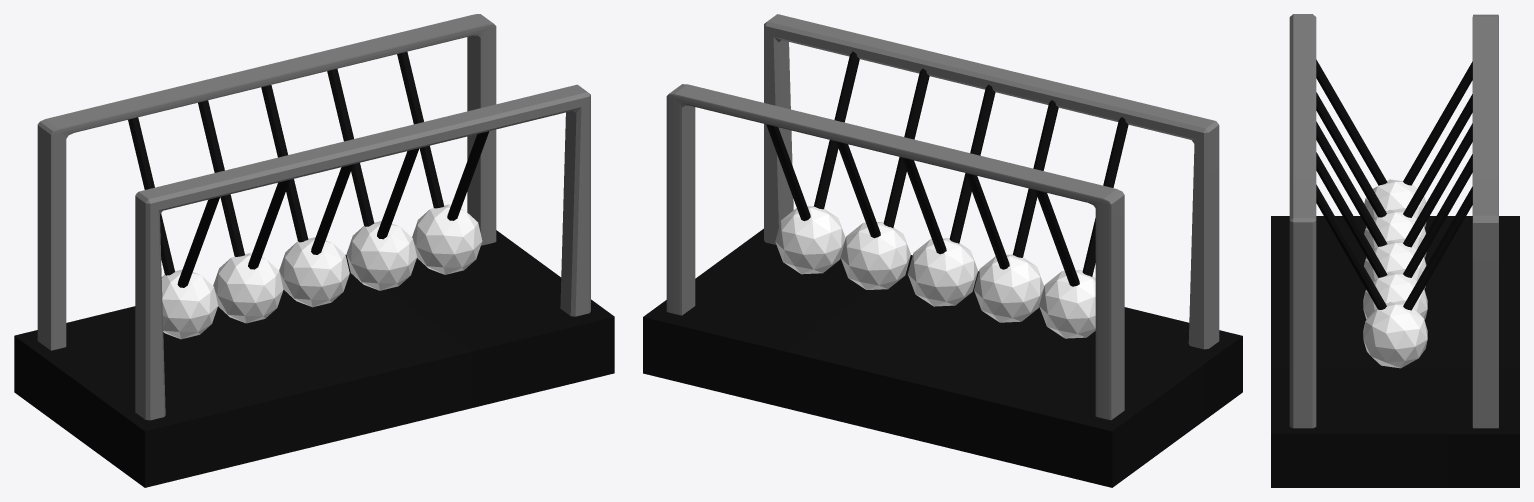
File: NewtonsCradleModel.fbx
3 views of the same model, side by side, from view 1: azimuth 30°, elevation 25°; view 2: azimuth 150°, elevation 25°; view 3: azimuth 270°, elevation 25° (orthographic). The views are drawn at different scales.
Visible parts, largest first — view 1: NewtonsCradleModel; view 2: NewtonsCradleModel; view 3: NewtonsCradleModel.
Boxes of the visible parts, x1=… form: NewtonsCradleModel: x1=14, y1=14, x2=614, y2=487; NewtonsCradleModel: x1=643, y1=14, x2=1242, y2=487; NewtonsCradleModel: x1=1271, y1=14, x2=1519, y2=487.
Bounding box in the file's own units: 58 × 32.62 × 27.96.
